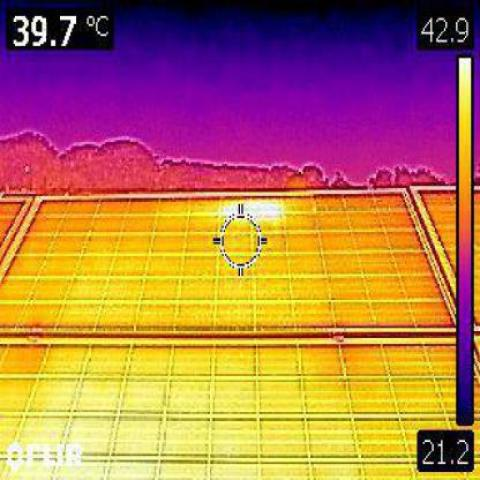fault: (223, 198, 284, 220)
